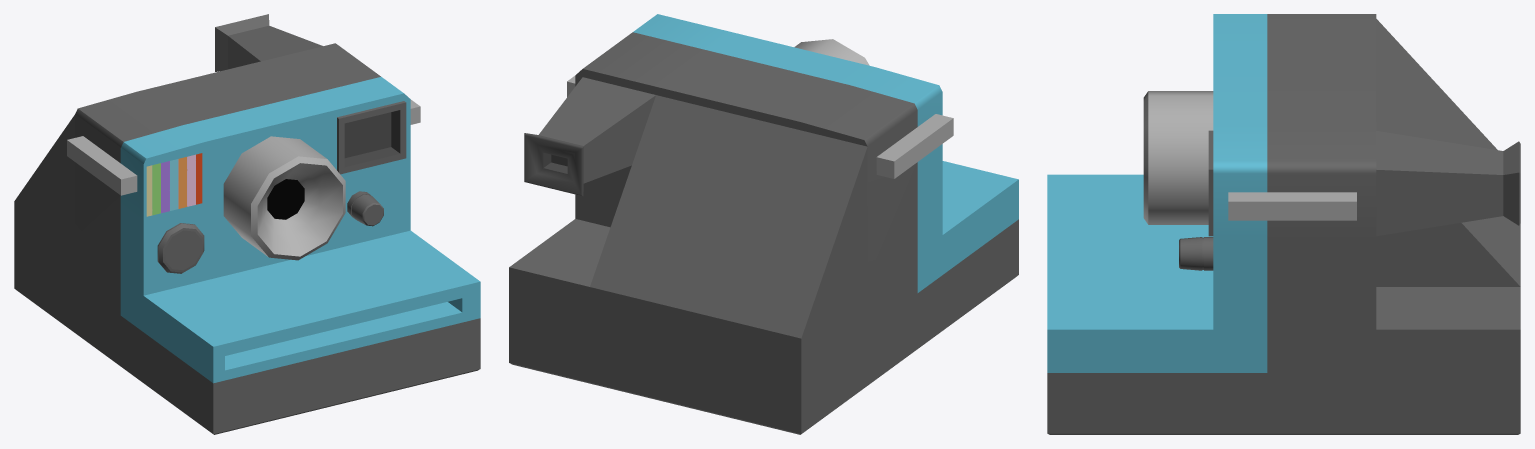
The model's file is Polaroid_Camera.fbx.
3 renders of one model, left to right at view 1: azimuth 30°, elevation 25°; view 2: azimuth 150°, elevation 25°; view 3: azimuth 270°, elevation 25°, orthographic. The views are drawn at different scales.
Parts seen in each view (by area): view 1: polySurface9; view 2: polySurface9; view 3: polySurface9.
Part boxes in pixels (x1,y1,x2,y2): polySurface9: (14,14,480,434); polySurface9: (509,14,1018,434); polySurface9: (1047,14,1520,434).
Size of the model in its own units: 5.18 by 3.77 by 5.96.
